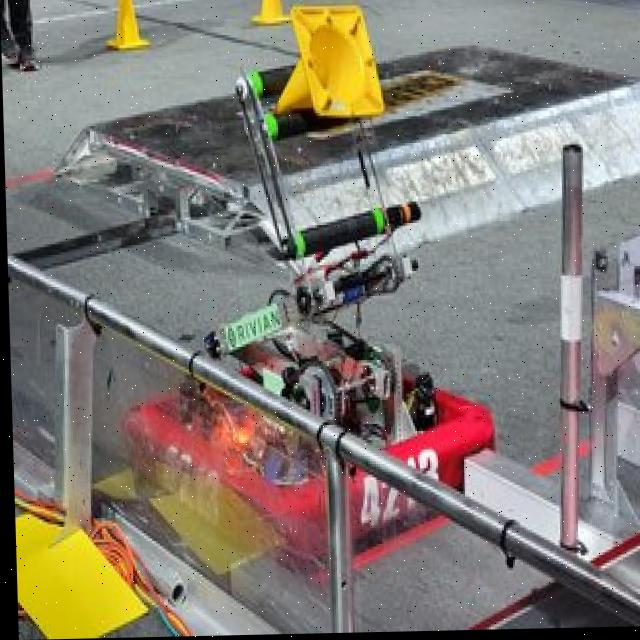robot: (122, 59, 514, 533)
